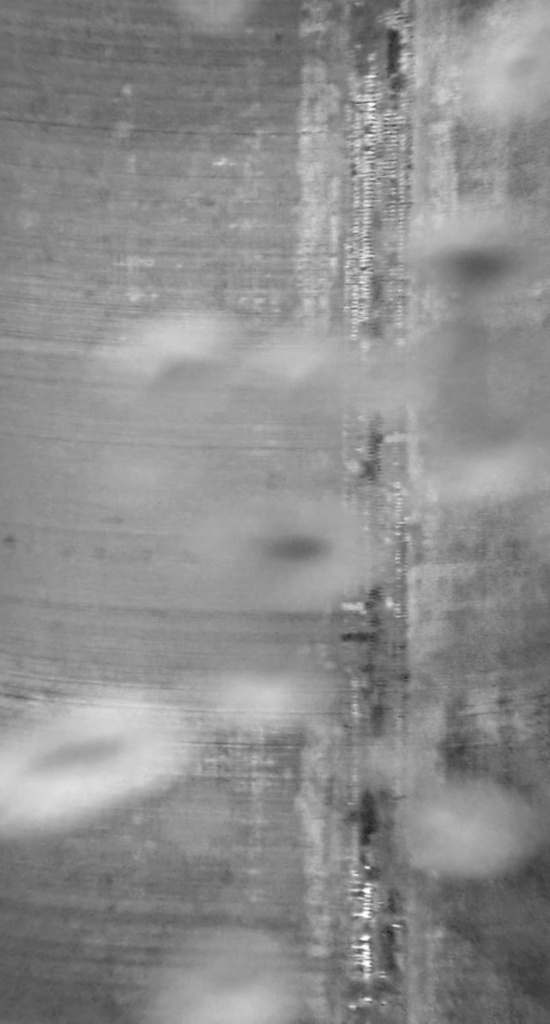splice: (320, 1, 417, 1021)
